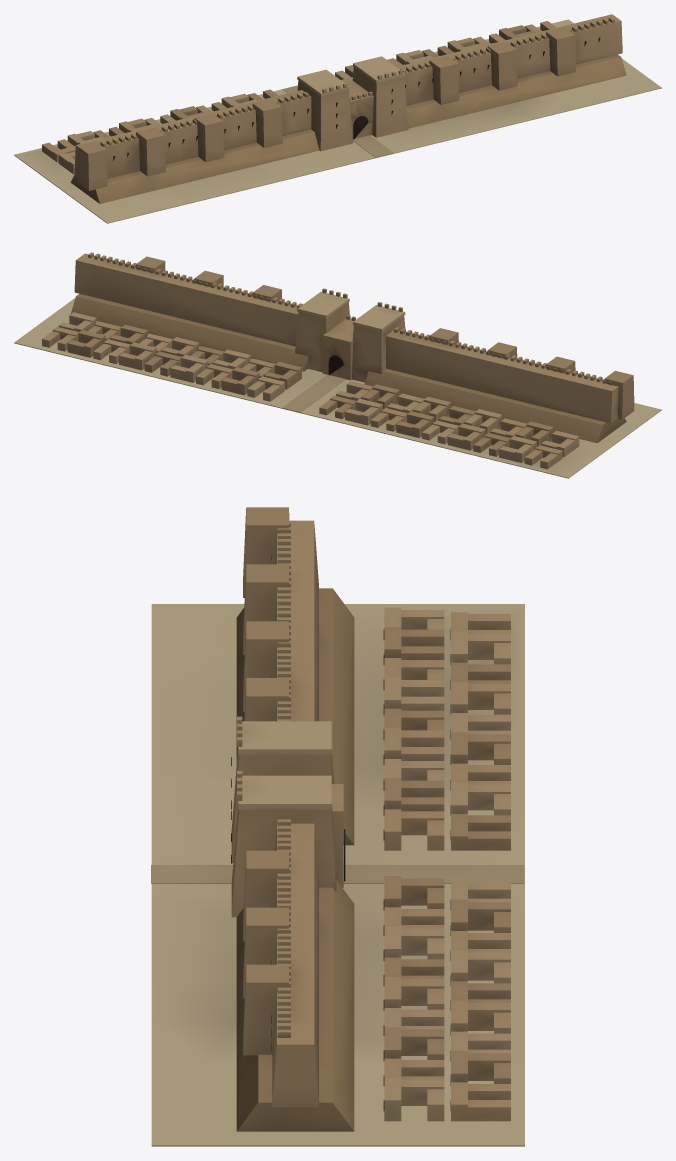
File: gyaur-kala-walls.glb
3 views of the same model, one above another, from view 1: azimuth 30°, elevation 25°; view 2: azimuth 150°, elevation 25°; view 3: azimuth 270°, elevation 25° (orthographic). The views are drawn at different scales.
Parts seen in each view (by area): view 1: p1_walls, p0_ground, p2_gate, p3_houses; view 2: p1_walls, p3_houses, p0_ground, p2_gate; view 3: p0_ground, p3_houses, p1_walls, p2_gate.
Part boxes in pixels (x1,y1,x2,y2): p1_walls: [70, 14, 626, 203]; p0_ground: [14, 19, 661, 223]; p2_gate: [297, 56, 408, 151]; p3_houses: [42, 21, 556, 174]; p1_walls: [71, 252, 634, 443]; p3_houses: [42, 312, 579, 469]; p0_ground: [14, 298, 661, 478]; p2_gate: [295, 288, 405, 382]; p0_ground: [151, 604, 524, 1146]; p3_houses: [383, 607, 510, 1121]; p1_walls: [236, 507, 354, 1131]; p2_gate: [231, 716, 345, 917].
Size of the model in its own units: 240 by 24.9 by 70.1.
